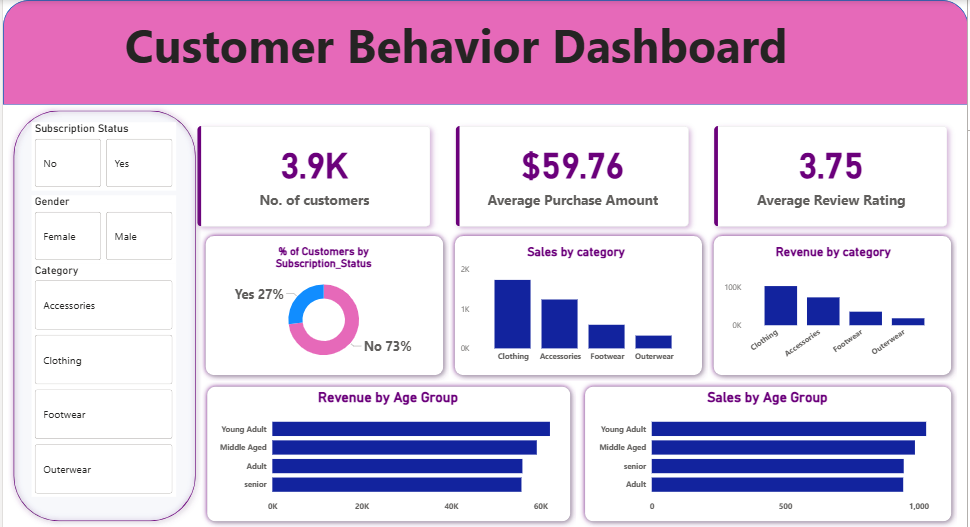

This screenshot's page, from the dashboard's own definition file:
{"tool":"powerbi","page":{"name":"Page 1","canvas":[1500,820],"ordinal":0},"visuals":[{"type":"cardVisual","fields":{"Data":["public customer.No. of customers","public customer.Average Purchase Amount","public customer.Average Review Rating"]},"box":[269.1,163,1232,222.2],"z":0},{"type":"shape","box":[0,0,1501.1,163],"z":1000},{"type":"textbox","box":[0,14.8,1409.8,148.1],"z":2000},{"type":"shape","box":[306.1,358,387.6,234.5],"z":3000},{"type":"donutChart","title":"% of Customers by Subscription_Status","fields":{"Category":["public customer.subscription_status"],"Y":["CountNonNull(public customer.customer_id)"]},"box":[325.9,380.2,345.7,192.6],"z":4000},{"type":"shape","box":[693.8,358,402.4,234.5],"z":5000},{"type":"shape","box":[1096.2,358,387.6,234.5],"z":6000},{"type":"clusteredColumnChart","title":"Revenue by category","fields":{"Y":["Sum(public customer.purchase_amount)"],"Category":["public customer.category"]},"box":[1116,380.2,350.6,192.6],"z":7000},{"type":"clusteredColumnChart","title":"Sales by category","fields":{"Category":["public customer.category"],"Y":["CountNonNull(public customer.customer_id)"]},"box":[706.1,380.2,370.3,192.6],"z":8000},{"type":"shape","box":[7.4,163,301.2,656.7],"z":9000},{"type":"advancedSlicerVisual","fields":{"Values":["public customer.subscription_status"]},"box":[44.4,190.1,224.7,106.2],"z":10000},{"type":"advancedSlicerVisual","fields":{"Values":["public customer.gender"]},"box":[44.4,303.7,224.7,106.2],"z":11000},{"type":"advancedSlicerVisual","fields":{"Values":["public customer.category"]},"box":[44.4,409.8,224.7,362.9],"z":12000},{"type":"shape","box":[308.6,592.5,582.7,227.1],"z":13000},{"type":"shape","box":[896.2,592.5,587.6,227.1],"z":14000},{"type":"clusteredBarChart","title":"Revenue by Age Group","fields":{"Category":["public customer.age_group"],"Y":["Sum(public customer.purchase_amount)"]},"box":[330.8,604.9,535.8,202.5],"z":15000},{"type":"clusteredBarChart","title":"Sales by Age Group","fields":{"Category":["public customer.age_group"],"Y":["CountNonNull(public customer.customer_id)"]},"box":[920.9,604.9,535.8,202.5],"z":15001}]}

Visuals, with their boxes in screenshot pixels (x1, y1, x2, y2), scaled from the page's 1500x820 canvas onto the 970x527 screenshot:
cardVisual - public customer.No. of customers x public customer.Average Purchase Amount: <bbox>174, 105, 969, 248</bbox>
shape: <bbox>0, 0, 969, 105</bbox>
textbox: <bbox>0, 10, 912, 105</bbox>
shape: <bbox>198, 230, 449, 381</bbox>
"% of Customers by Subscription_Status" donutChart: <bbox>211, 244, 434, 368</bbox>
shape: <bbox>449, 230, 709, 381</bbox>
shape: <bbox>709, 230, 960, 381</bbox>
"Revenue by category" clusteredColumnChart: <bbox>722, 244, 948, 368</bbox>
"Sales by category" clusteredColumnChart: <bbox>457, 244, 696, 368</bbox>
shape: <bbox>5, 105, 200, 526</bbox>
advancedSlicerVisual - public customer.subscription_status: <bbox>29, 122, 174, 190</bbox>
advancedSlicerVisual - public customer.gender: <bbox>29, 195, 174, 263</bbox>
advancedSlicerVisual - public customer.category: <bbox>29, 263, 174, 497</bbox>
shape: <bbox>200, 381, 576, 526</bbox>
shape: <bbox>580, 381, 960, 526</bbox>
"Revenue by Age Group" clusteredBarChart: <bbox>214, 389, 560, 519</bbox>
"Sales by Age Group" clusteredBarChart: <bbox>596, 389, 942, 519</bbox>
